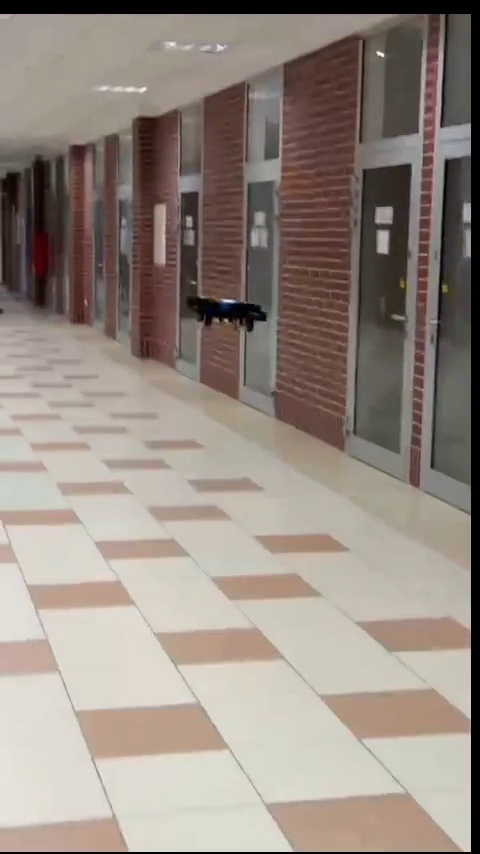drone: (188, 292, 264, 336)
